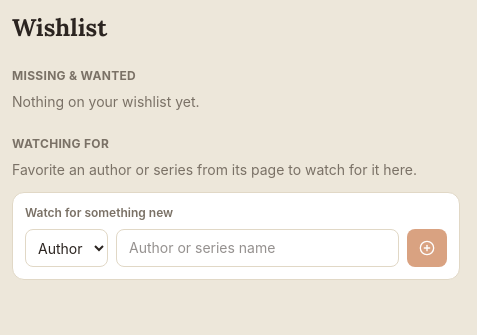
Test: WishlistPage › adds a favorite by name and shows it in the list
The image size is (477, 335).
Expected: the text "Watch for something new" is shown, top-left (25, 205), bottom-right (173, 220)
Type "Brandon Sanderson" into the field with placeholder "Author or series name".
click(258, 248); type("Brandon Sanderson")  # box top-left (116, 229), bottom-right (399, 267)
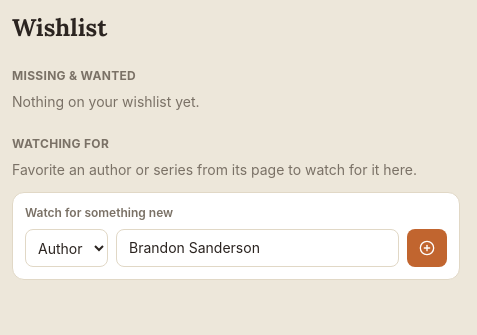
Click the button named "Add".
click(427, 248)  # box top-left (407, 229), bottom-right (447, 267)
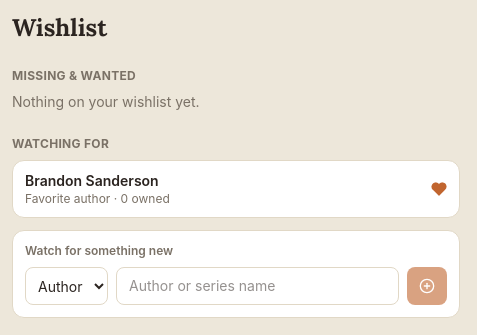
Result: the text "Brandon Sanderson" is shown at top-left (25, 172), bottom-right (159, 189)
Result: the text "0 owned" is shown at top-left (121, 191), bottom-right (170, 206)
